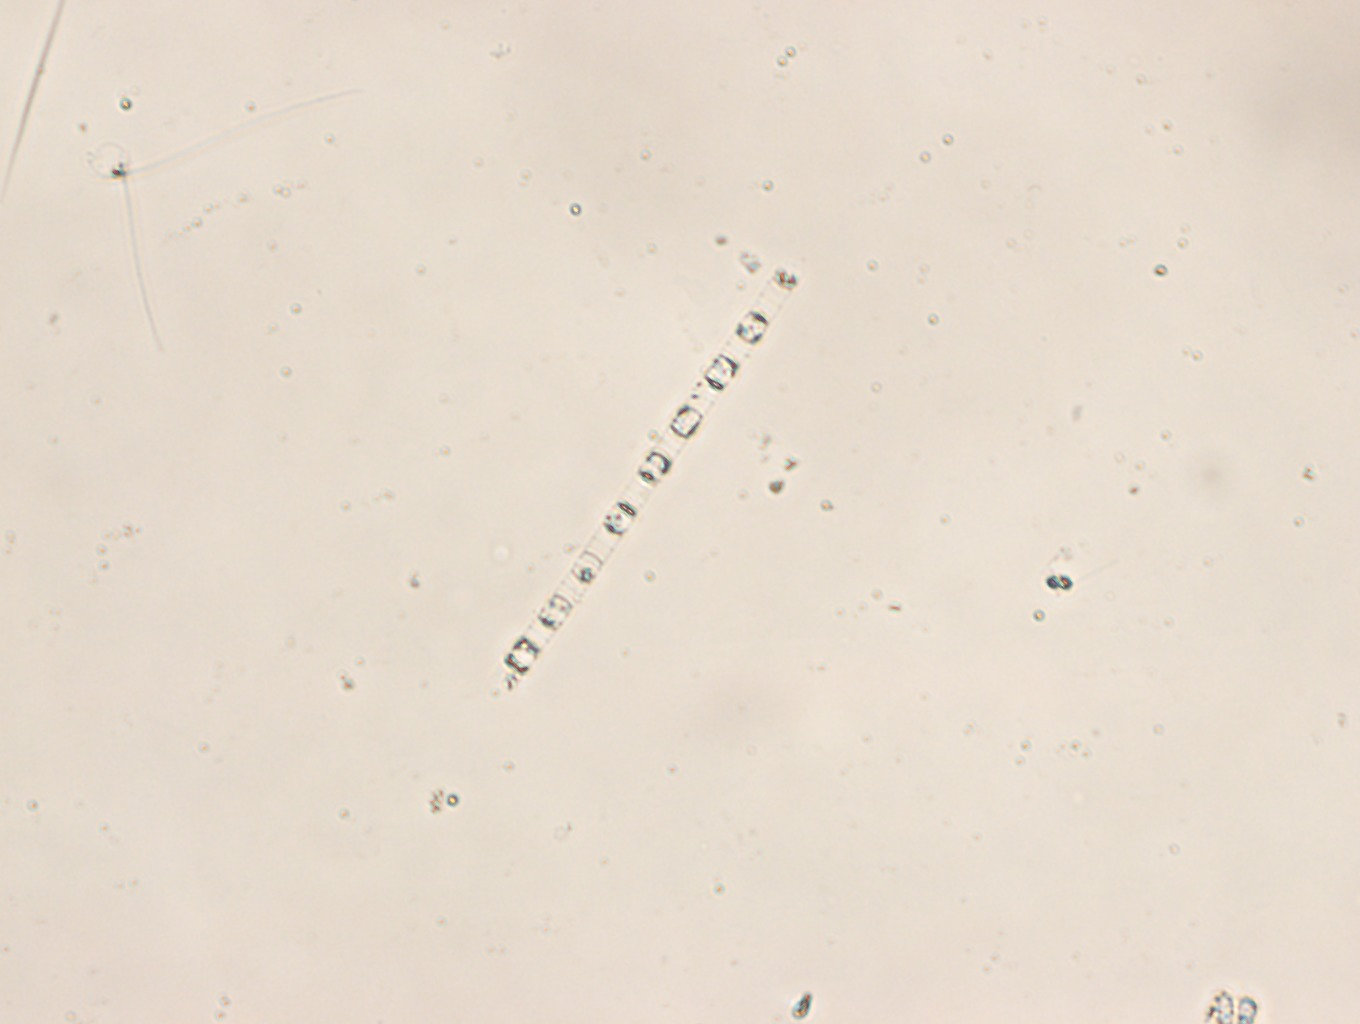skeletonema: (487, 268, 799, 689)
